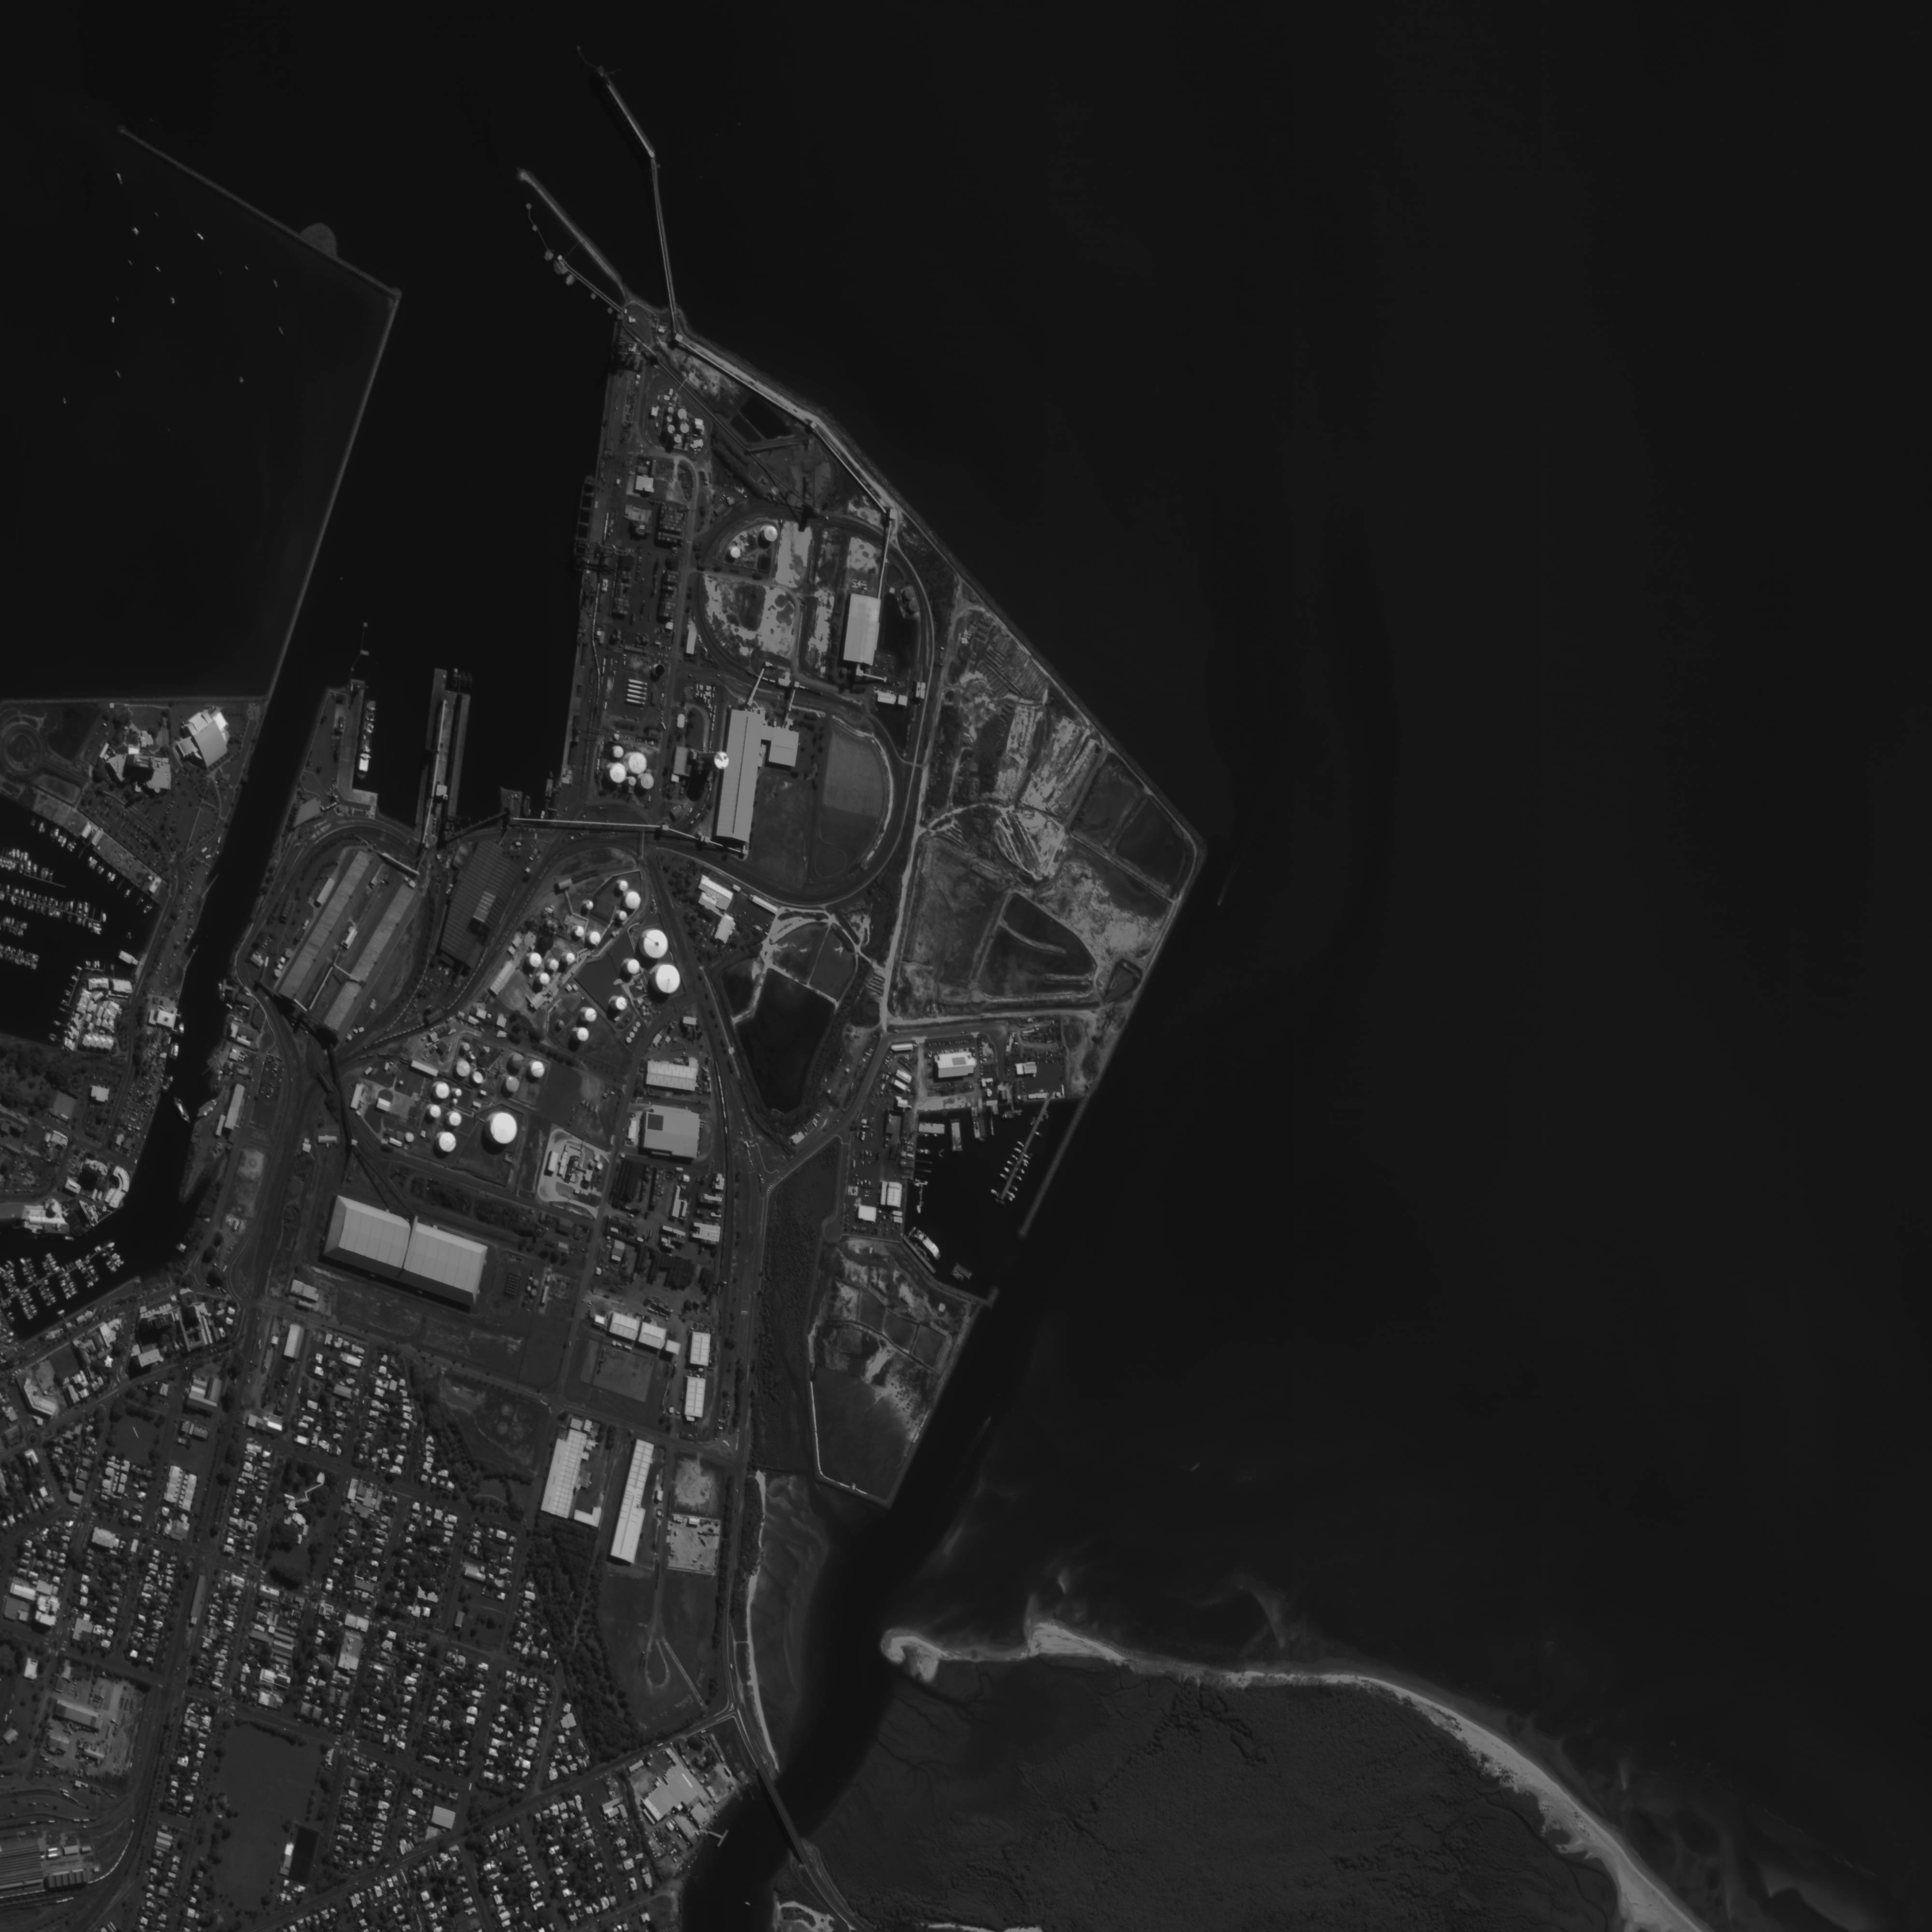bridge: (759, 1771, 812, 1865)
harbor: (591, 60, 683, 322), (506, 157, 642, 310), (982, 1092, 1065, 1208), (2, 879, 108, 939), (4, 847, 73, 893), (2, 941, 44, 975), (97, 1242, 127, 1276), (0, 913, 30, 943), (76, 1256, 103, 1290), (16, 1288, 42, 1322), (16, 1254, 42, 1288), (55, 1269, 80, 1302), (0, 1267, 25, 1299), (35, 1249, 62, 1277), (35, 1277, 57, 1309)
roundabout: (27, 1431, 42, 1449)
ship: (350, 695, 382, 782), (170, 1092, 195, 1125), (541, 766, 557, 809), (915, 1143, 934, 1159), (989, 1185, 1003, 1200), (1000, 1111, 1016, 1122)
storage tank: (487, 1109, 518, 1145), (651, 964, 683, 994), (639, 929, 669, 959), (433, 1131, 458, 1154), (626, 752, 649, 775), (711, 748, 732, 771), (432, 1079, 451, 1100), (527, 1058, 547, 1079), (508, 1053, 527, 1072), (761, 524, 780, 543), (609, 994, 630, 1012), (609, 763, 626, 784), (471, 1067, 488, 1086), (502, 1076, 522, 1093), (455, 1058, 472, 1077), (579, 1007, 598, 1024), (625, 892, 642, 911), (571, 1026, 591, 1042), (621, 959, 640, 975), (446, 1111, 464, 1127), (425, 1104, 442, 1120), (534, 970, 552, 985), (525, 952, 543, 968), (586, 929, 602, 947), (639, 773, 655, 789), (545, 957, 561, 973), (649, 663, 667, 678), (561, 950, 577, 964), (570, 924, 586, 938), (729, 547, 743, 561), (908, 600, 922, 614), (612, 909, 628, 922), (676, 407, 688, 421), (612, 745, 625, 759), (902, 587, 915, 602), (451, 1086, 464, 1099), (582, 901, 594, 913), (616, 881, 630, 892), (405, 1131, 416, 1143), (679, 423, 690, 433), (628, 775, 637, 787), (674, 433, 683, 444), (667, 425, 676, 435), (531, 1277, 540, 1288), (667, 407, 676, 416), (529, 1288, 538, 1297), (451, 1099, 460, 1106), (667, 416, 674, 423)
